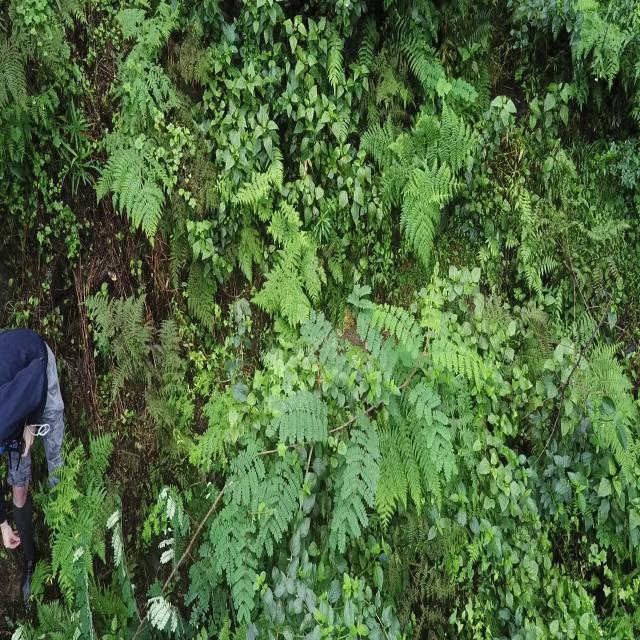Mysore-Thorn-Weed: (258, 311, 485, 550), (75, 430, 260, 640)
